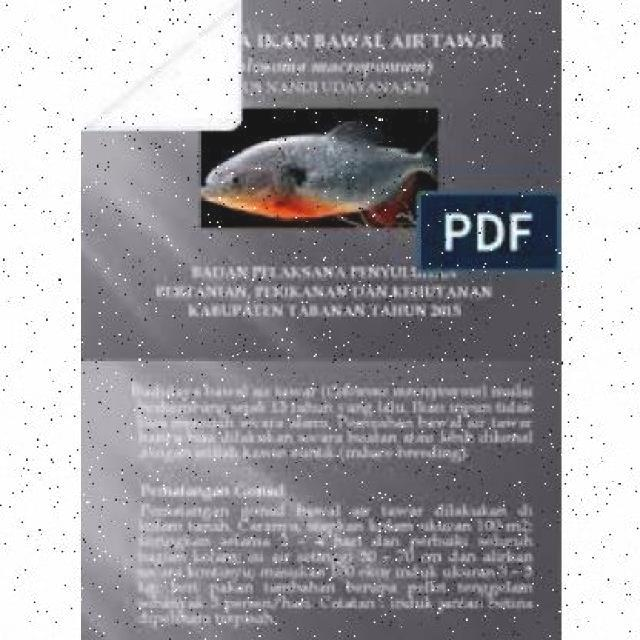ikan-pacu: (196, 113, 429, 222)
